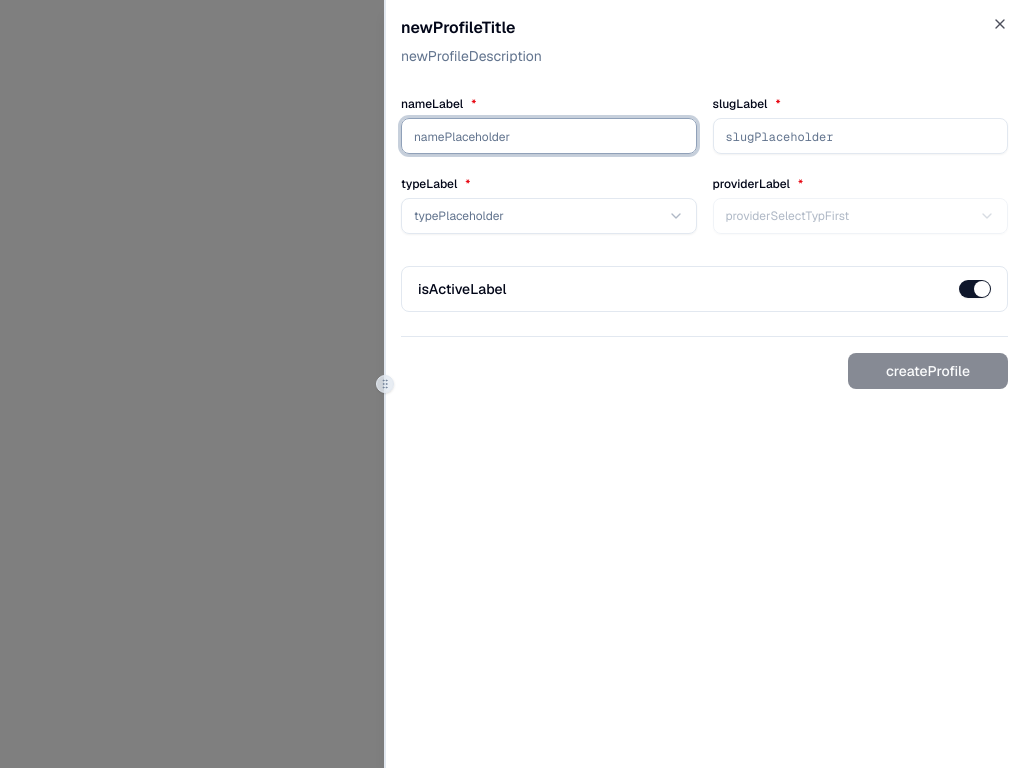
Test: IntegrationProfileSheet — seleção de tipo/provider e slug › toSlug trata bordas: espaços/símbolos nas pontas e caracteres não alfanuméricos
Expected: the dropdown named "typeLabel" is enabled, [401,198,696,234]
Type "  --Multi   Word!!--  " into the field labelled "nameLabel *" at (549, 136), box [401,118,696,154]
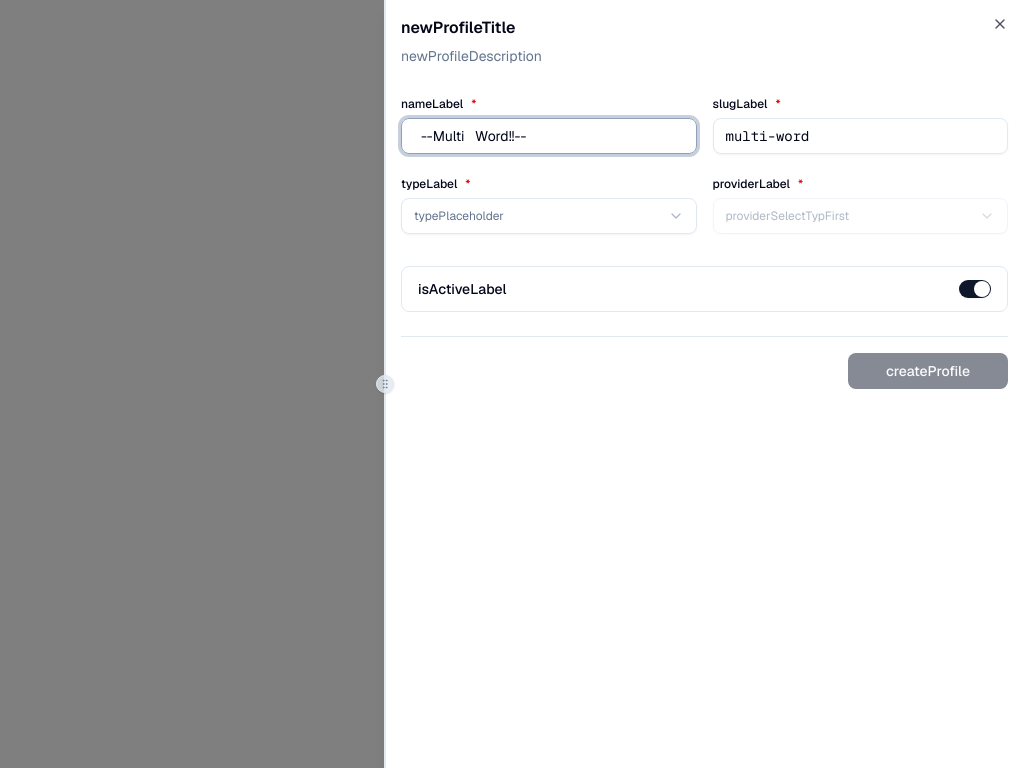
Now the field labelled "slugLabel *" holds "multi-word", box [712,118,1008,154]
